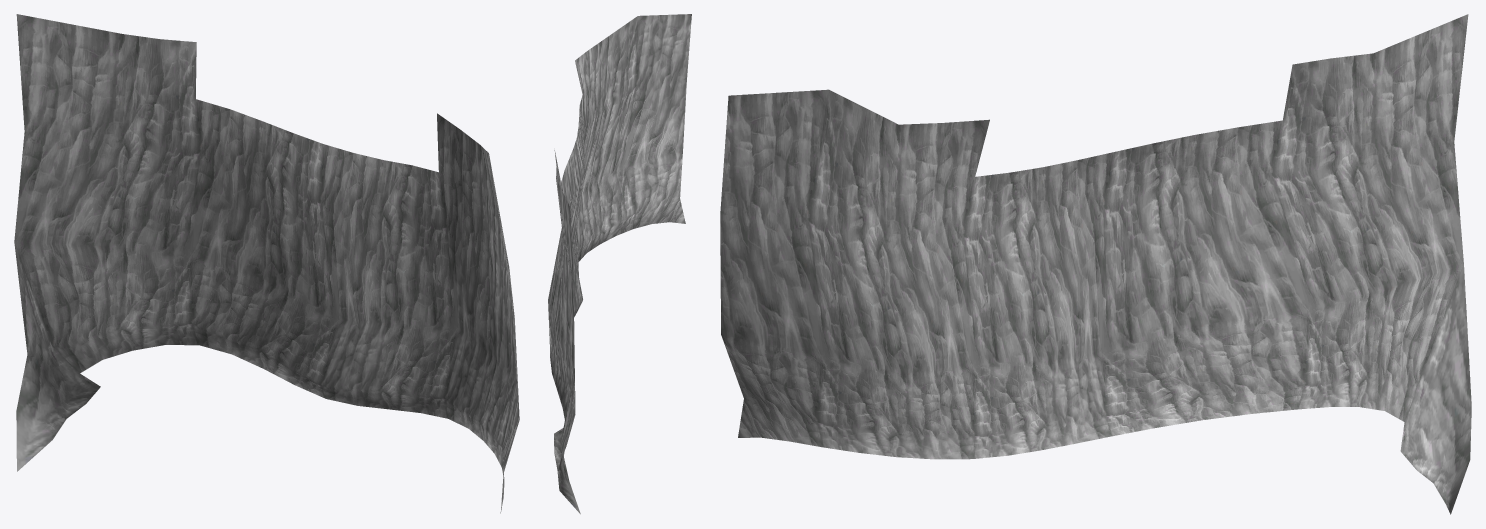
File: SWORDLIGHT20_PS-AREA03_163.fbx
3 views of the same model, side by side, from view 1: azimuth 30°, elevation 25°; view 2: azimuth 150°, elevation 25°; view 3: azimuth 270°, elevation 25° (orthographic). The views are drawn at different scales.
Visible parts, largest first — view 1: SWORDLIGHT20_PS-AREA03_163; view 2: SWORDLIGHT20_PS-AREA03_163; view 3: SWORDLIGHT20_PS-AREA03_163.
Part boxes in pixels (<box>): SWORDLIGHT20_PS-AREA03_163: <box>14,14,519,513</box>; SWORDLIGHT20_PS-AREA03_163: <box>548,14,691,514</box>; SWORDLIGHT20_PS-AREA03_163: <box>720,14,1471,514</box>.
Size of the model in its own units: 104147 by 204738 by 262232.
2 materials, 2 textured.
